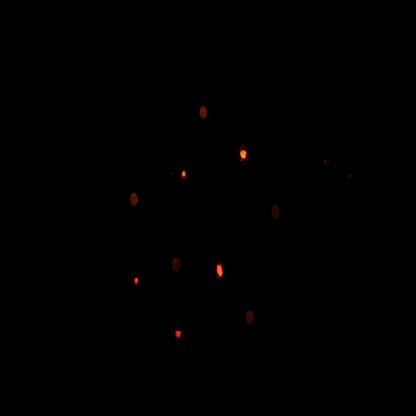PS: (121, 182, 151, 224), (190, 94, 219, 133), (263, 195, 288, 232), (239, 295, 261, 337), (168, 246, 189, 285)
PVC: (165, 313, 195, 357), (232, 133, 262, 176), (124, 265, 154, 300), (209, 251, 235, 290), (173, 158, 194, 194)
